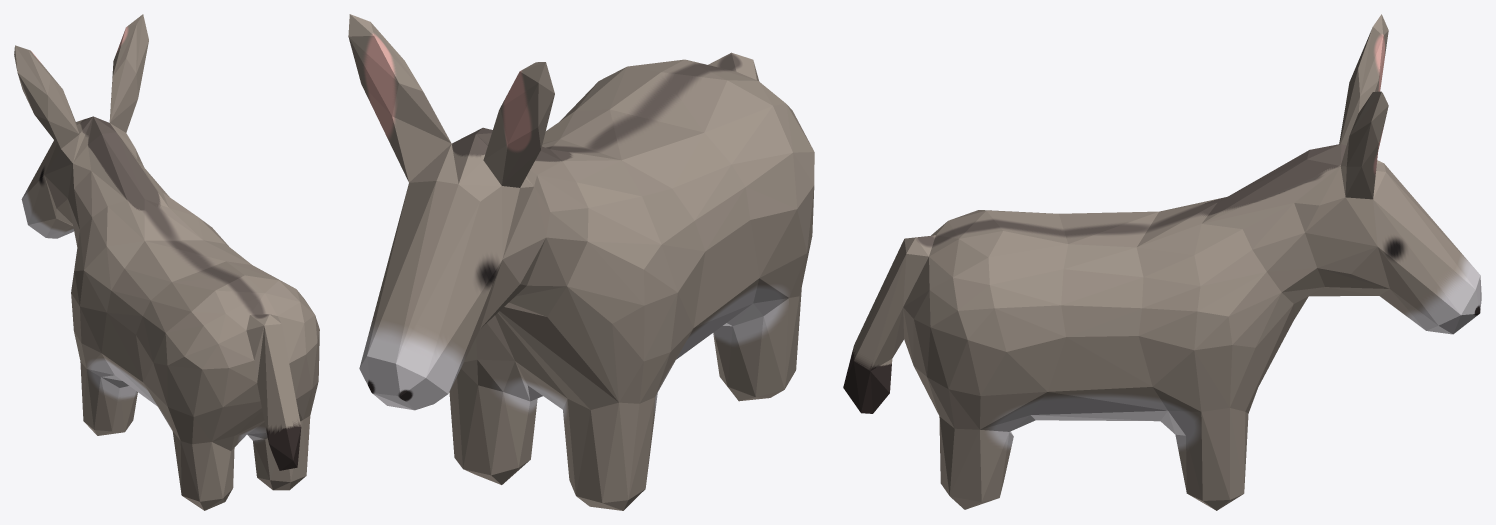
File: animal_donkey_blob.obj
The picture shows the model from 3 angles, left to right: view 1: azimuth 30°, elevation 25°; view 2: azimuth 150°, elevation 25°; view 3: azimuth 270°, elevation 25°; orthographic projection. The views are drawn at different scales.
Parts seen in each view (by area): view 1: animal_donkey_blob; view 2: animal_donkey_blob; view 3: animal_donkey_blob.
Part boxes in pixels (bbox=[...]): animal_donkey_blob: bbox=[14, 14, 319, 510]; animal_donkey_blob: bbox=[348, 14, 814, 510]; animal_donkey_blob: bbox=[843, 14, 1481, 510].
Size of the model in its own units: 0.5444 by 1.17 by 1.58.
